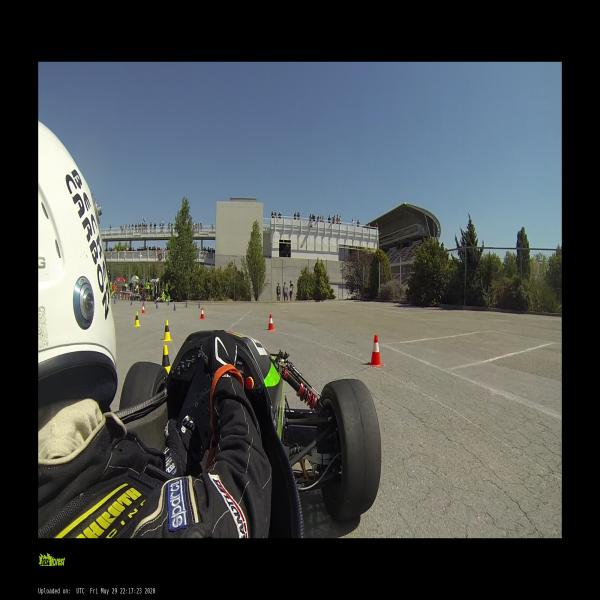blue_cone: (174, 303, 176, 311), (198, 302, 200, 309), (186, 302, 188, 308), (156, 302, 158, 308), (167, 300, 169, 306), (114, 298, 115, 304), (131, 300, 132, 305), (144, 301, 144, 305)
orange_cone: (368, 334, 384, 366), (267, 314, 275, 331), (200, 308, 205, 320), (142, 304, 145, 314)
yellow_cone: (163, 320, 173, 341), (162, 346, 170, 369), (133, 311, 141, 326)
